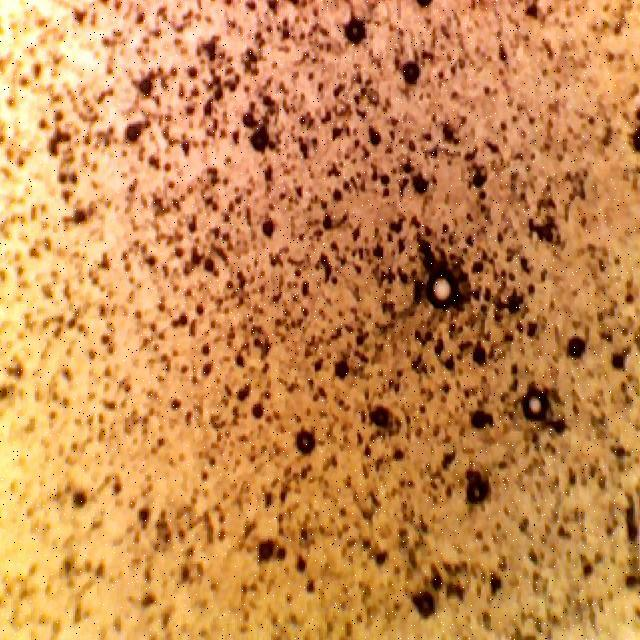microbeads: (426, 269, 458, 311)
